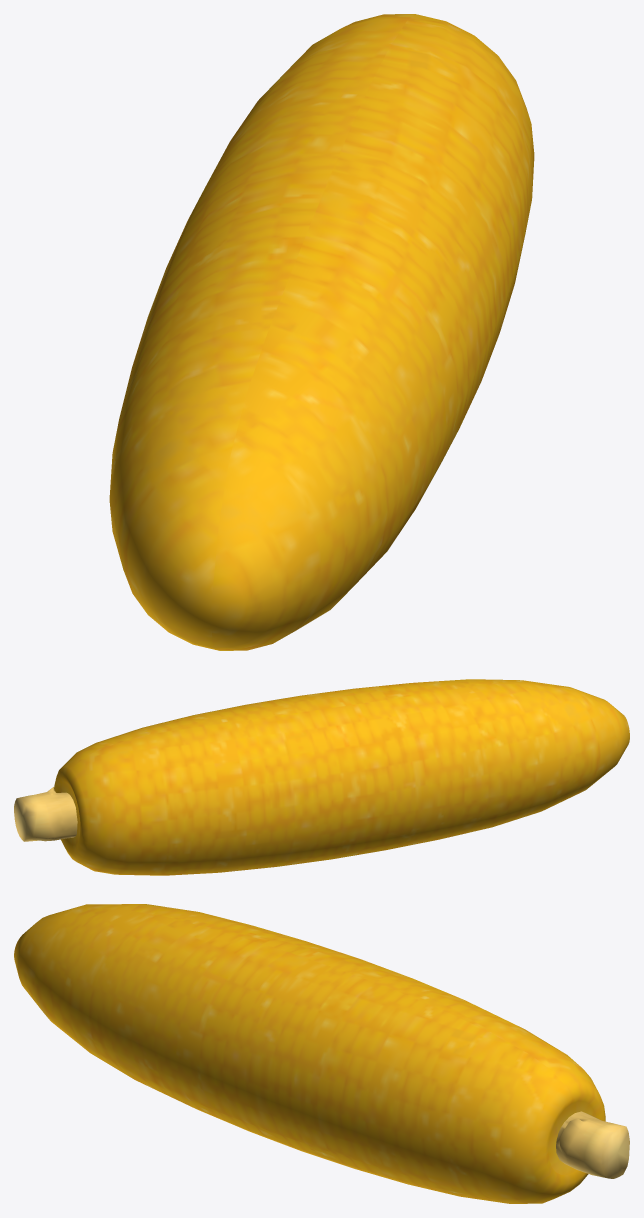
File: BFSweetCorn.obj
3 views of the same model, one above another, from view 1: azimuth 30°, elevation 25°; view 2: azimuth 150°, elevation 25°; view 3: azimuth 270°, elevation 25° (orthographic). The views are drawn at different scales.
Parts seen in each view (by area): view 1: yumi; view 2: yumi; view 3: yumi.
Part boxes in pixels (x1,y1,x2,y2): yumi: (109,14,534,650); yumi: (14,679,629,875); yumi: (14,904,629,1203).
Size of the model in its own units: 1.7 by 0.6376 by 1.95.
